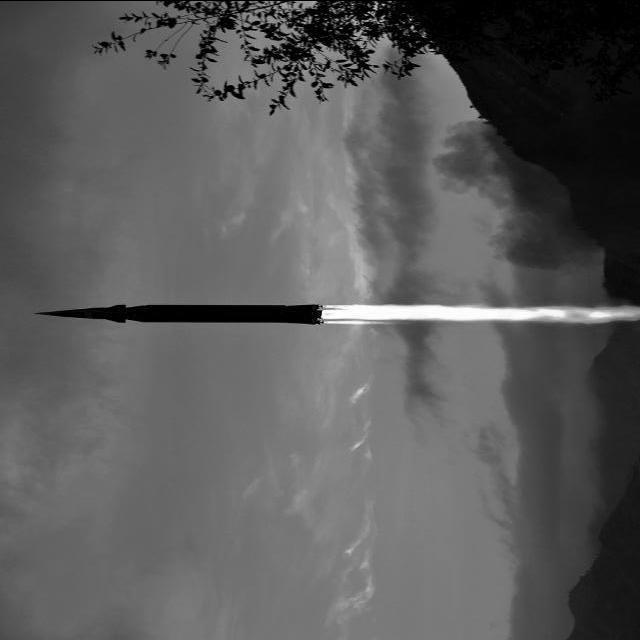Missile: (20, 298, 341, 329)
